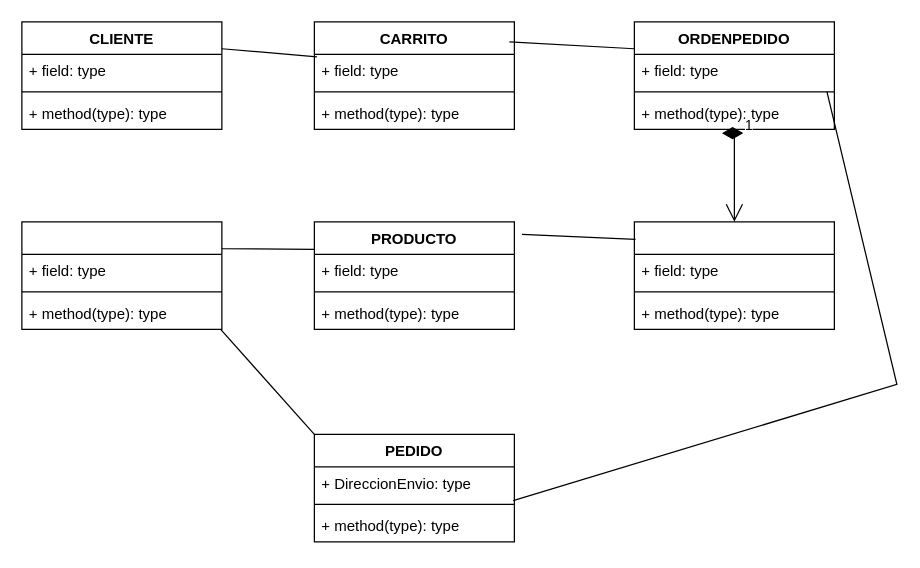
Image size: 920x568. Some labels were removed from this diagram. Here are the shapes that lost their labels. From the top down, the box of each, then its label:
(21, 221, 222, 329): LINEAPEDIDO
(633, 221, 834, 329): LINEAORDENPEDIDO
